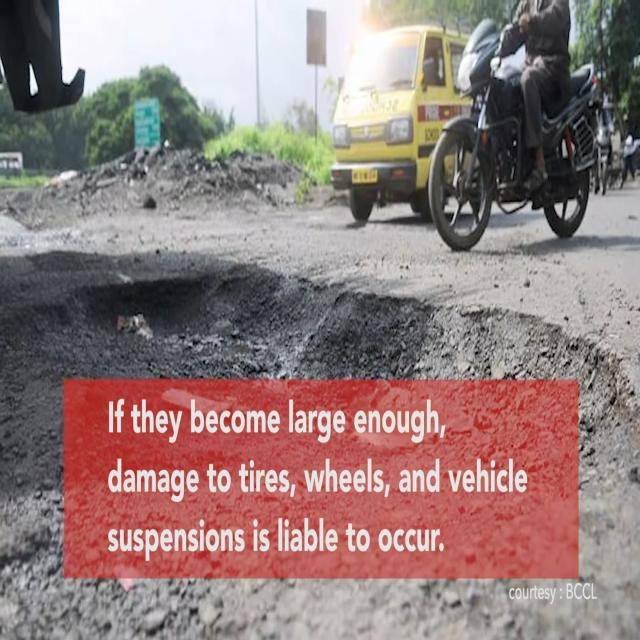potholes: (12, 275, 630, 501)
